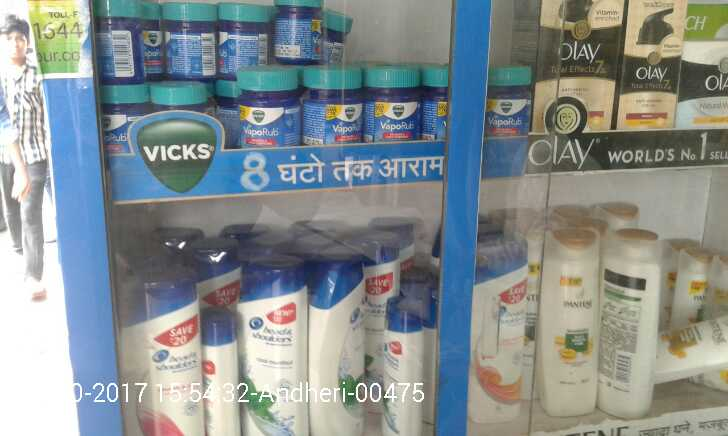vicks: (241, 66, 306, 146), (364, 63, 423, 145), (306, 66, 364, 145), (167, 5, 219, 76), (481, 63, 531, 135), (103, 80, 147, 156), (265, 1, 318, 63), (102, 1, 139, 76), (219, 5, 265, 63), (155, 80, 216, 120), (139, 1, 167, 76), (423, 63, 445, 141), (216, 80, 241, 146), (324, 11, 354, 58)
